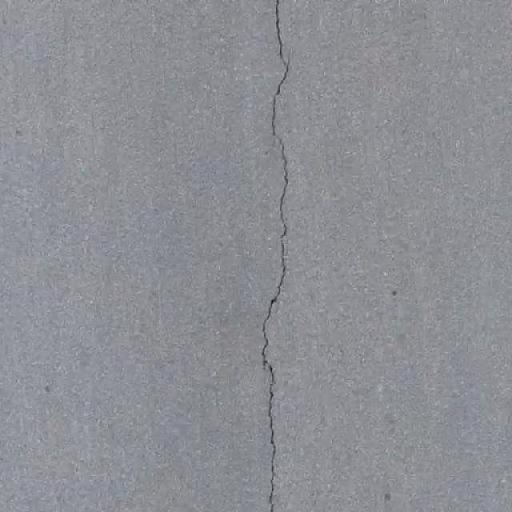minor crack: (0, 27, 114, 500)
moderate crack: (93, 5, 512, 501), (261, 4, 292, 503), (382, 99, 410, 508), (268, 72, 282, 171), (260, 294, 278, 352), (273, 0, 283, 52)
severe crack: (265, 475, 276, 505), (264, 358, 275, 384), (277, 218, 288, 244), (267, 501, 276, 512)
